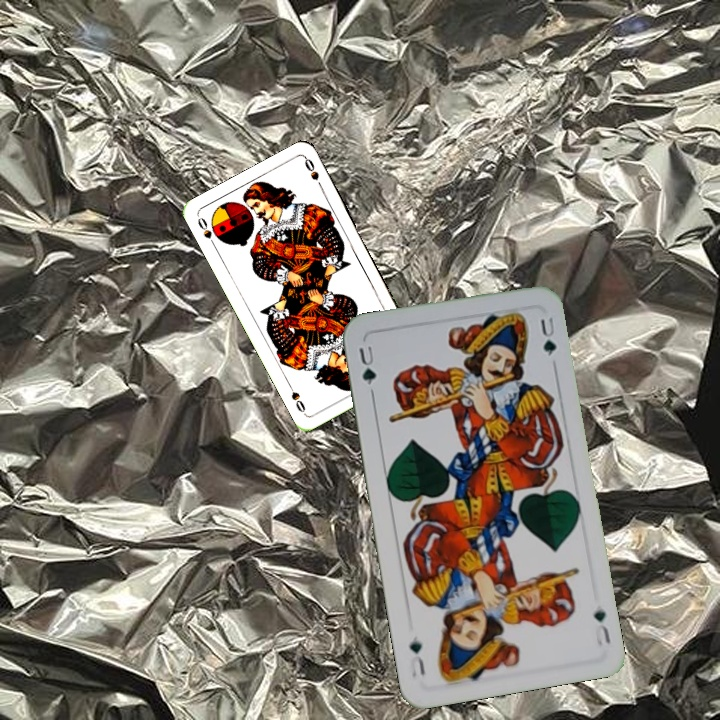GU: (354, 341, 379, 387), (589, 606, 613, 649)
SO: (193, 212, 218, 250)
